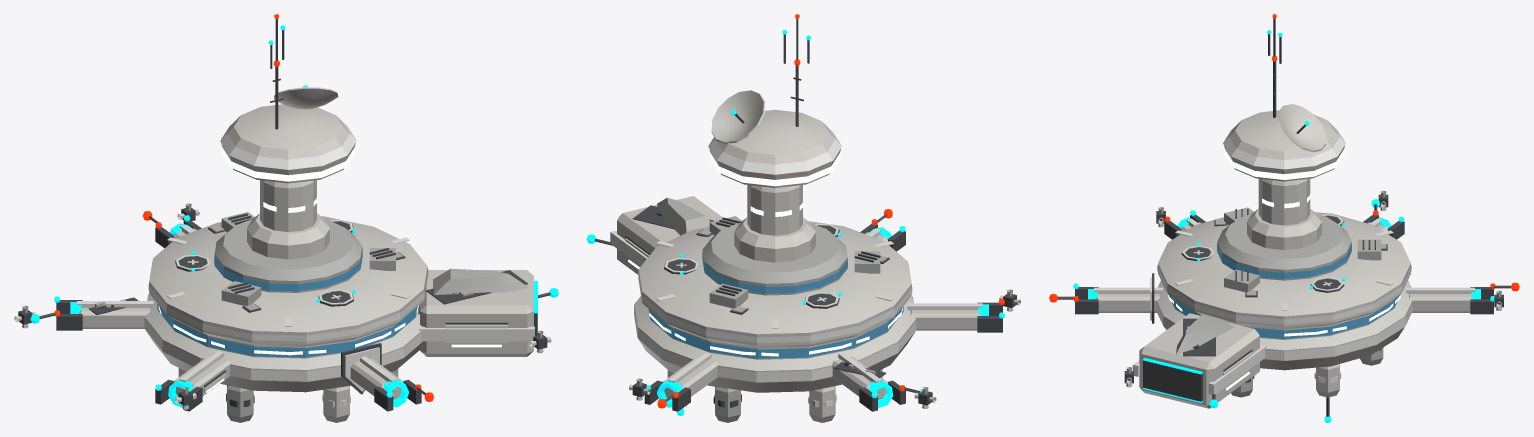
File: trade_station.glb
3 views of the same model, side by side, from view 1: azimuth 30°, elevation 25°; view 2: azimuth 150°, elevation 25°; view 3: azimuth 270°, elevation 25° (orthographic). The views are drawn at different scales.
Parts seen in each view (by area): view 1: trade_station; view 2: trade_station; view 3: trade_station.
Boxes of the visible parts, <box> form: trade_station: <box>14,14,558,422</box>; trade_station: <box>587,14,1020,422</box>; trade_station: <box>1049,14,1519,422</box>.
Bounding box in the file's own units: 1.83 × 1.6 × 1.85.
